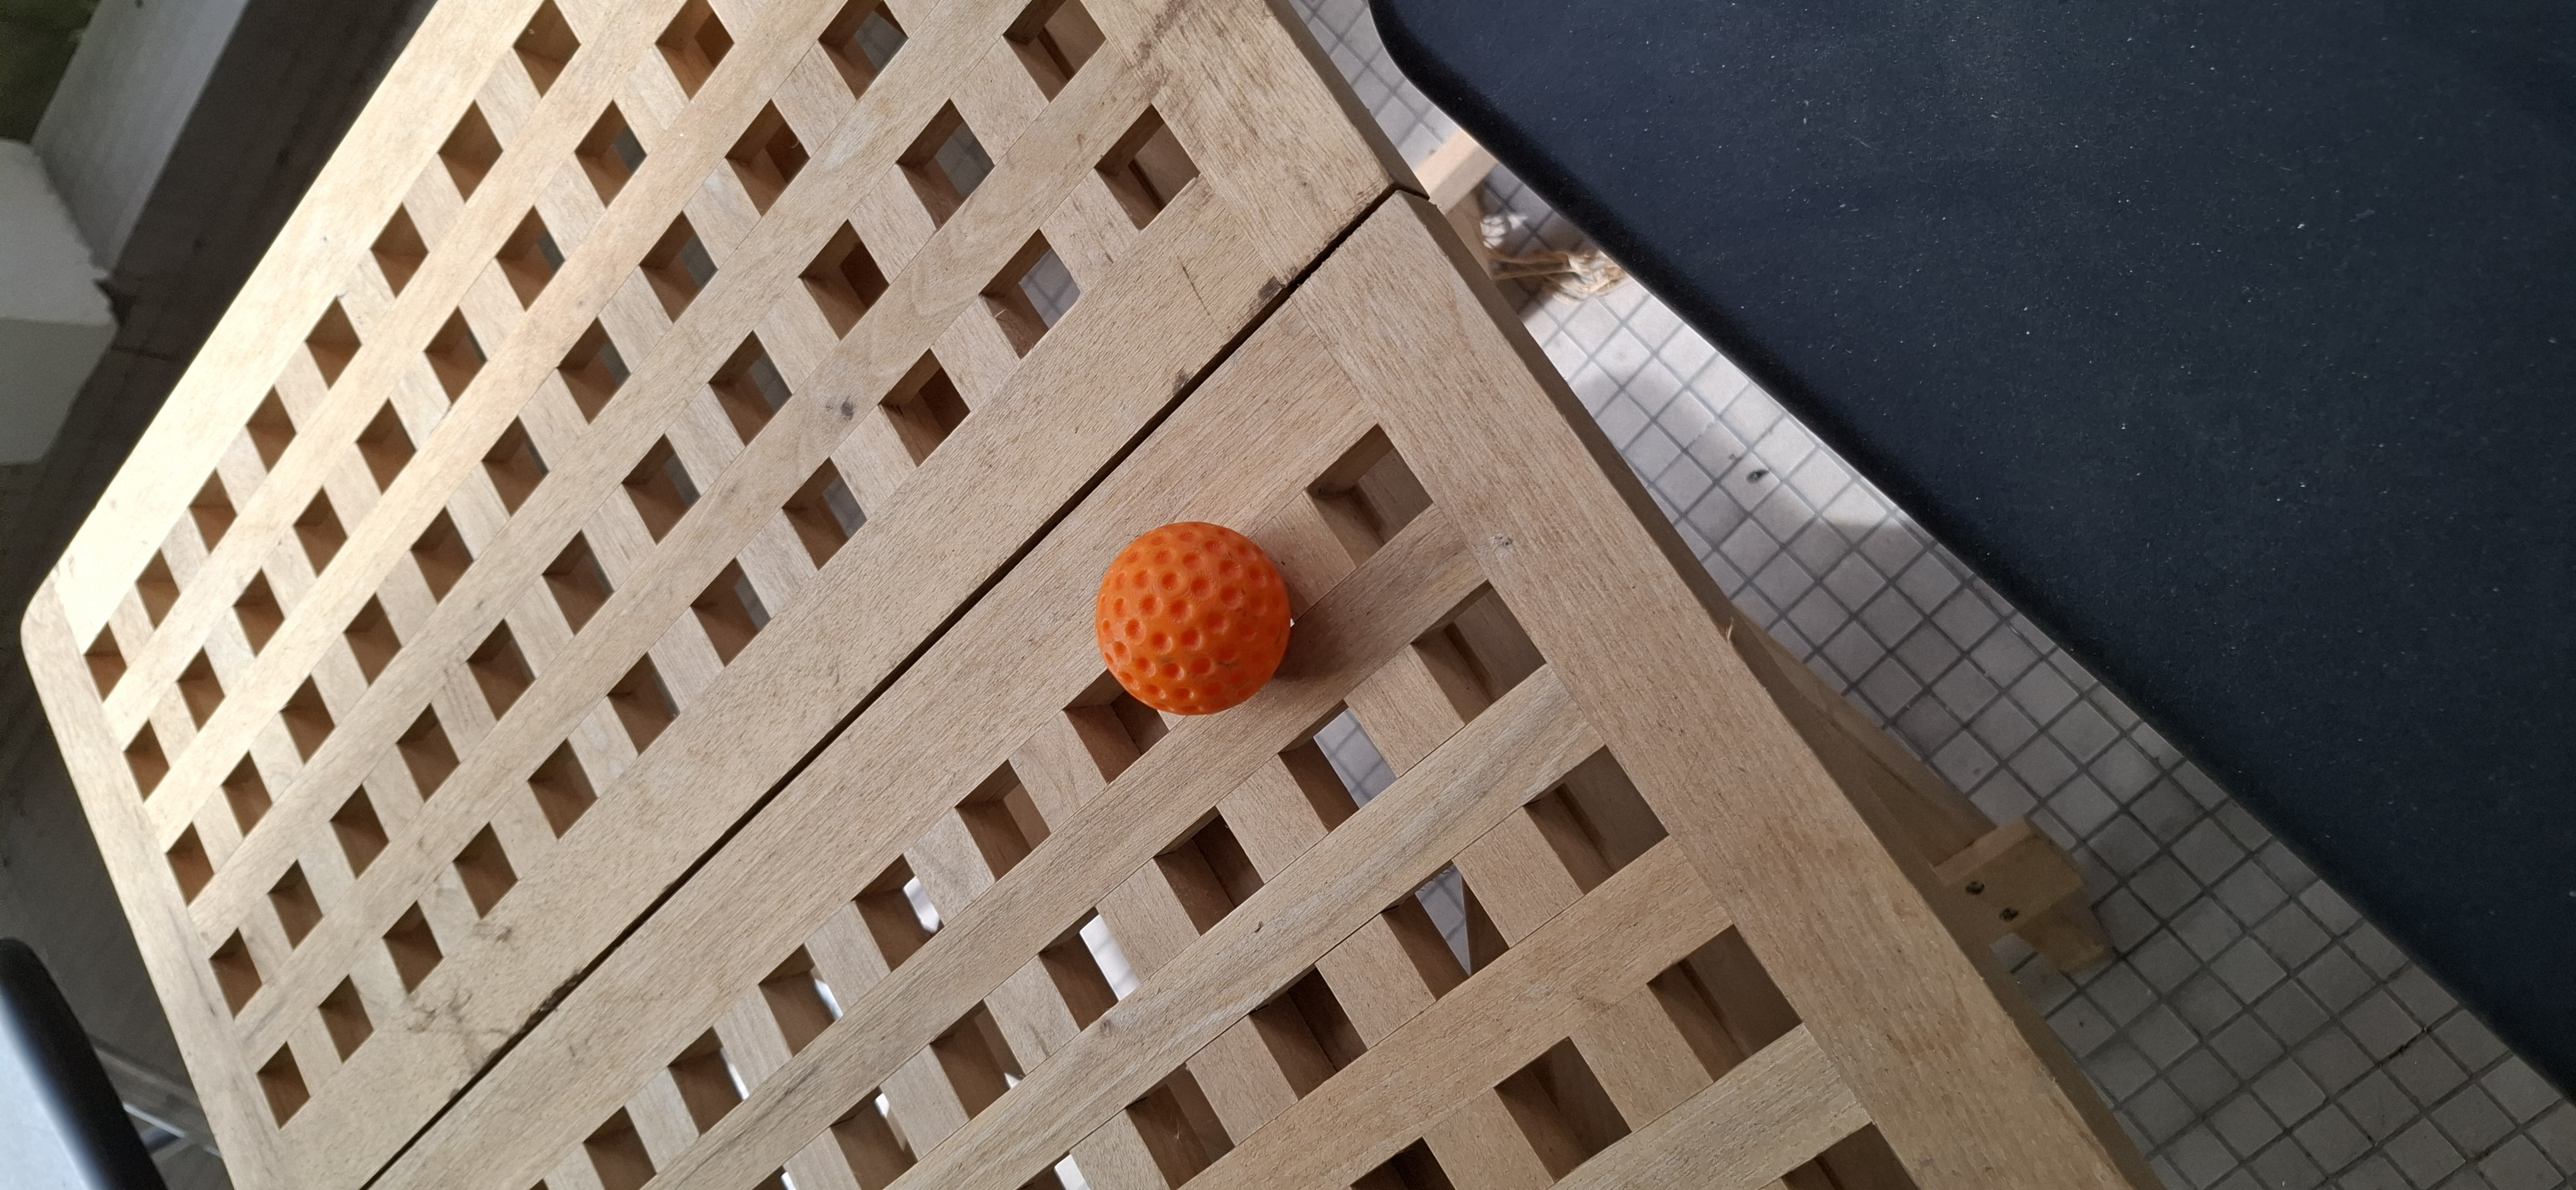ball: (1091, 516, 1293, 717)
